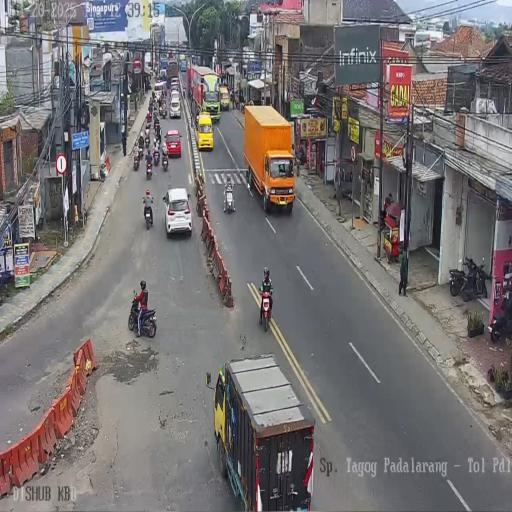car: (163, 186, 192, 237), (196, 112, 214, 151), (164, 129, 182, 158), (169, 90, 181, 118), (154, 80, 166, 103), (219, 86, 230, 110), (171, 78, 179, 93), (157, 70, 165, 82), (180, 59, 186, 72)
motorcycle: (128, 291, 157, 337), (489, 289, 512, 343), (258, 286, 273, 332), (449, 261, 468, 296), (223, 178, 235, 214), (142, 197, 154, 230), (295, 146, 306, 166), (161, 149, 169, 171), (146, 156, 153, 179), (133, 149, 140, 171), (152, 147, 160, 166), (154, 124, 161, 142), (160, 103, 167, 119), (144, 132, 150, 150), (146, 112, 152, 127), (240, 101, 246, 114)
truck: (212, 355, 314, 511), (244, 104, 294, 216), (187, 63, 220, 124)
